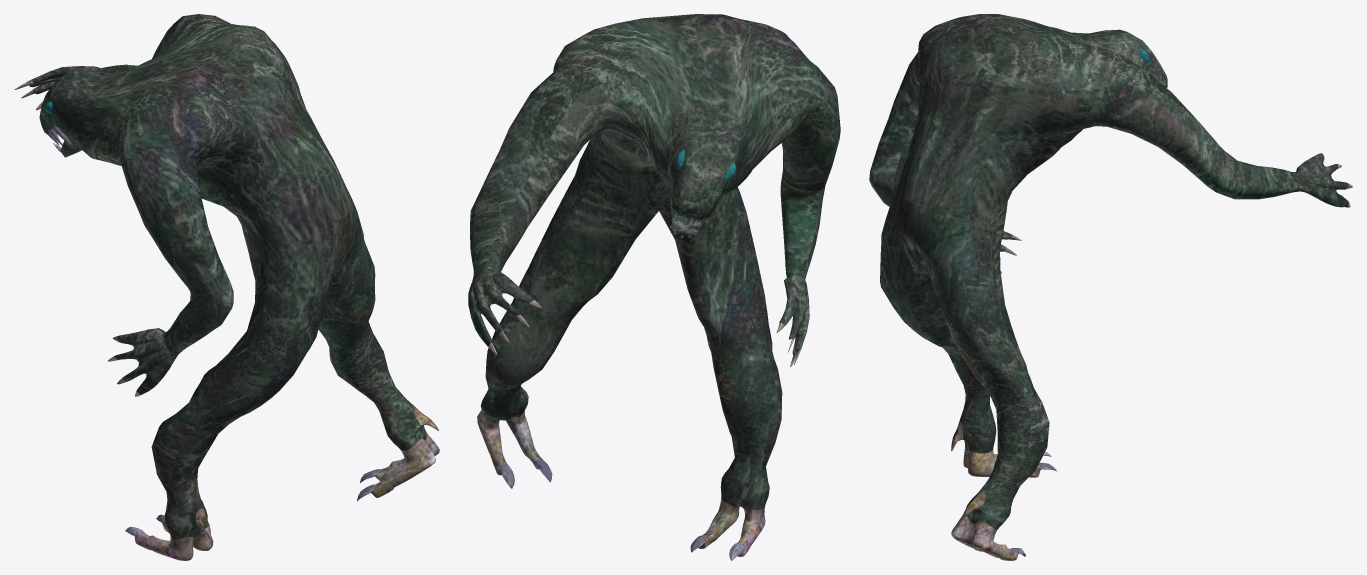
Rendered from Aranar.0006.obj.
3 views of the same model, side by side, from view 1: azimuth 30°, elevation 25°; view 2: azimuth 150°, elevation 25°; view 3: azimuth 270°, elevation 25° (orthographic). The views are drawn at different scales.
Visible parts, largest first — view 1: polySurface28; view 2: polySurface28; view 3: polySurface28.
Part boxes in pixels (x1,y1,x2,y2): polySurface28: (14,14,439,560); polySurface28: (468,14,840,560); polySurface28: (869,14,1352,560).
Size of the model in its own units: 1.38 by 1.99 by 1.85.
4 materials, 4 textured.
